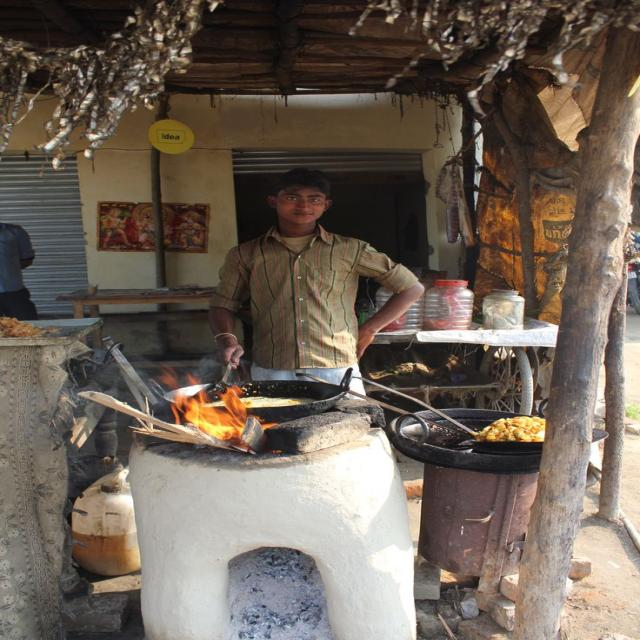fire: (156, 366, 278, 452)
